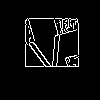V: (25, 25, 70, 79)
